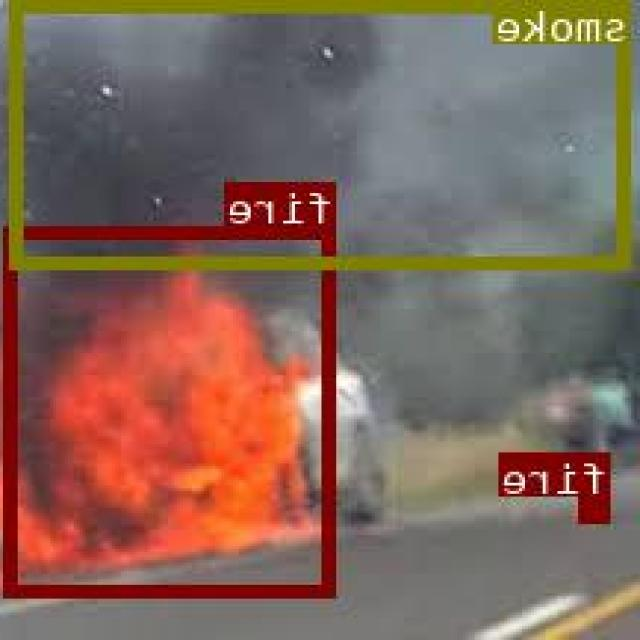fire: (7, 225, 338, 595), (584, 496, 611, 521)
smoke: (13, 0, 633, 268)
